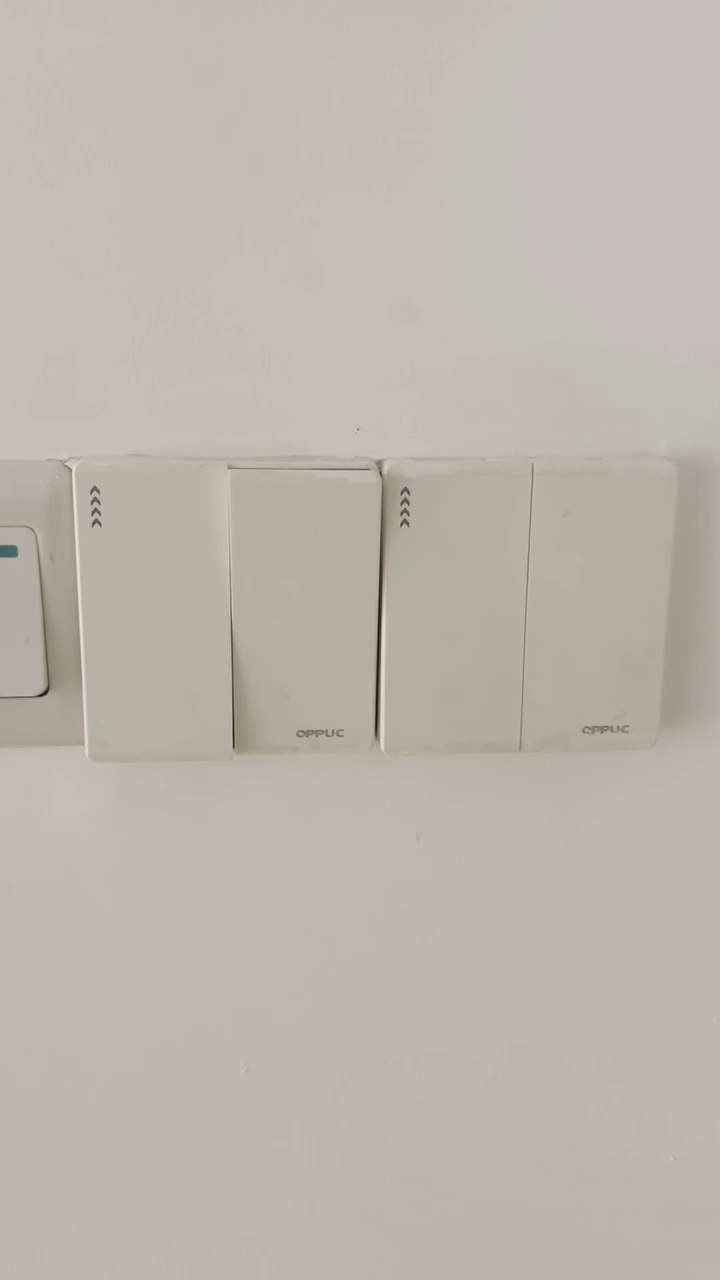button1: (75, 465, 230, 757), (386, 461, 527, 750), (524, 471, 669, 747), (232, 475, 374, 747)
